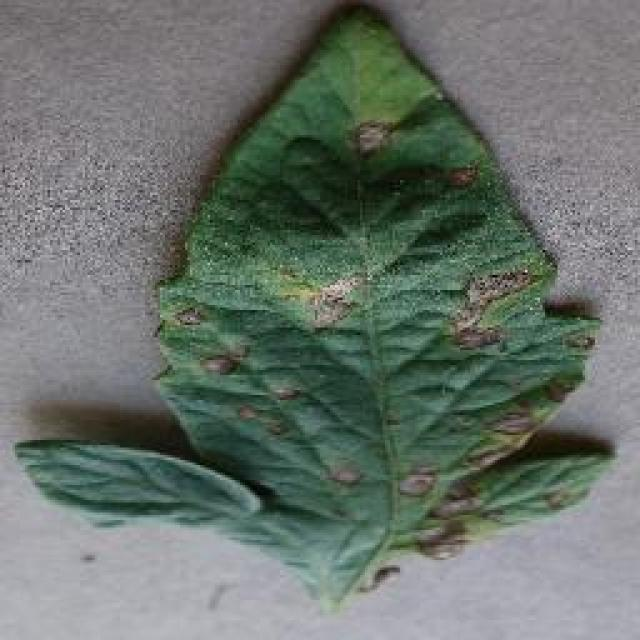Tomato Early blight leaf: (19, 7, 622, 606)
